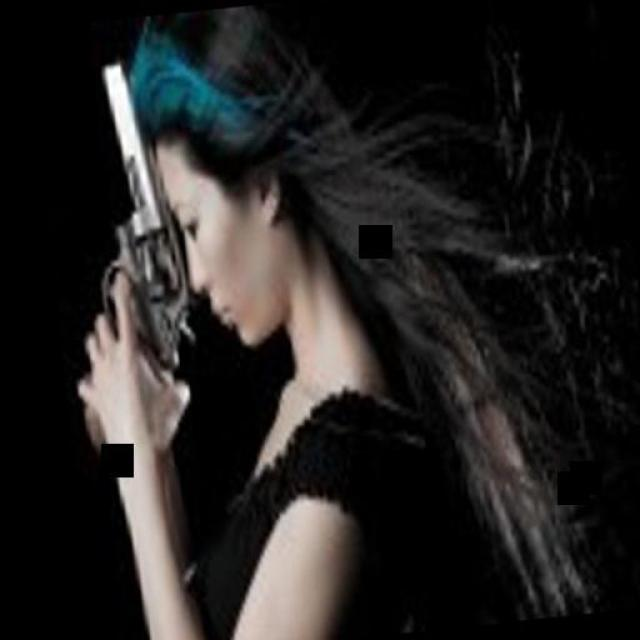gun: (57, 41, 206, 424)
